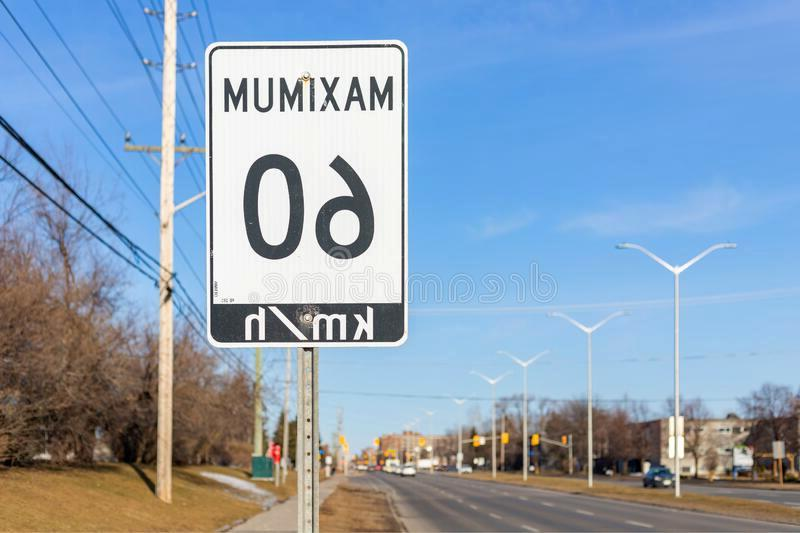speed limit sign: (205, 38, 410, 349)
